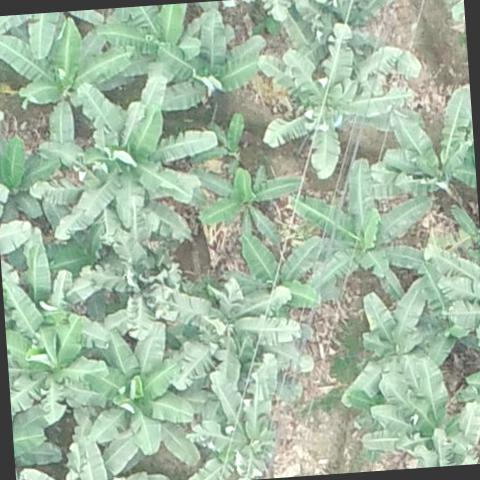Banana-plant: (29, 77, 213, 241), (288, 147, 437, 294), (260, 31, 407, 180), (164, 270, 305, 389), (86, 328, 198, 470), (0, 16, 127, 127), (340, 282, 440, 414), (387, 81, 479, 222), (181, 358, 285, 480), (360, 368, 480, 471), (80, 240, 200, 336), (5, 314, 111, 420), (154, 13, 266, 104), (226, 237, 328, 320), (201, 164, 301, 248), (96, 3, 192, 73), (0, 140, 55, 222)
